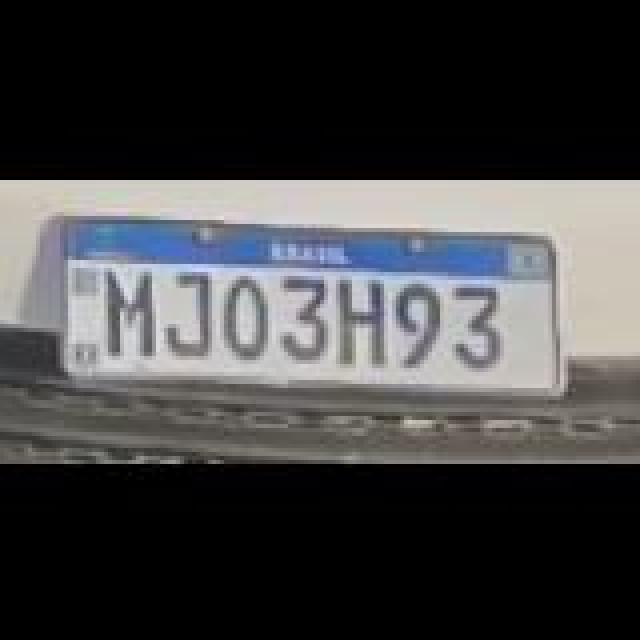3: (282, 272, 334, 360), (454, 282, 506, 366)
9: (396, 278, 444, 362)
H: (338, 276, 390, 364)
J: (164, 268, 212, 356)
M: (106, 268, 158, 356)
O: (222, 274, 274, 358)
